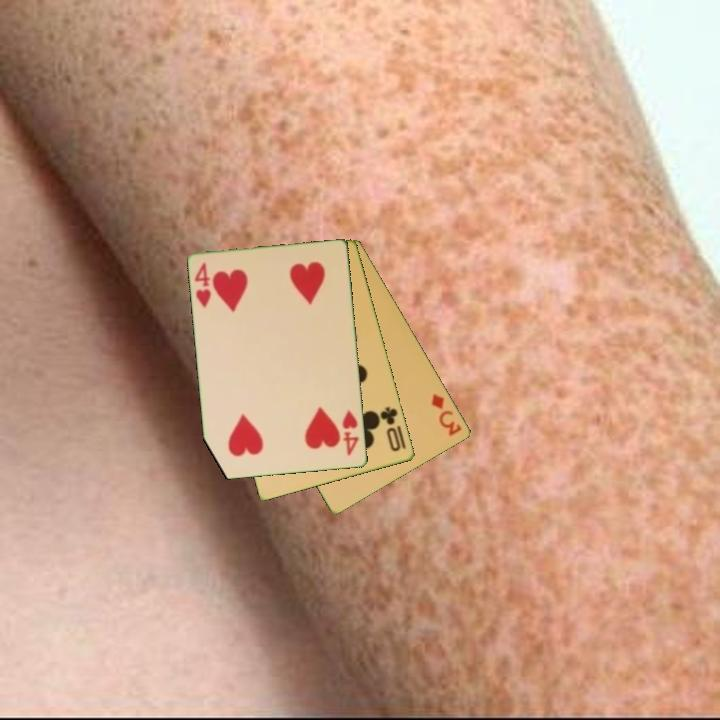10c: (377, 403, 404, 455)
3d: (428, 390, 465, 439)
4h: (191, 259, 215, 311), (339, 406, 362, 459)
